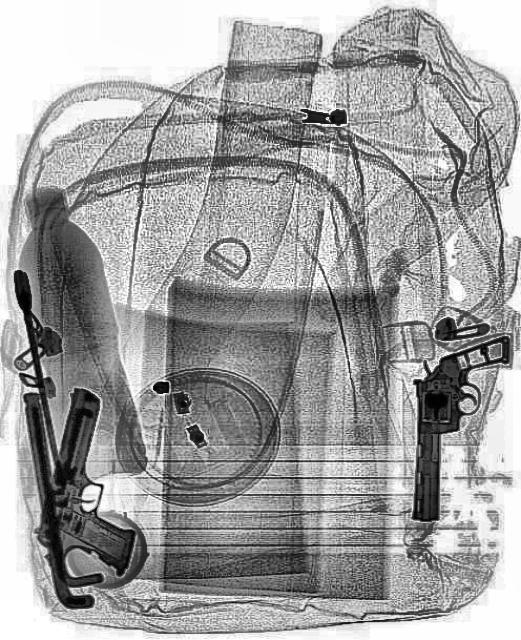Gun: (26, 383, 170, 583), (409, 332, 510, 520)
